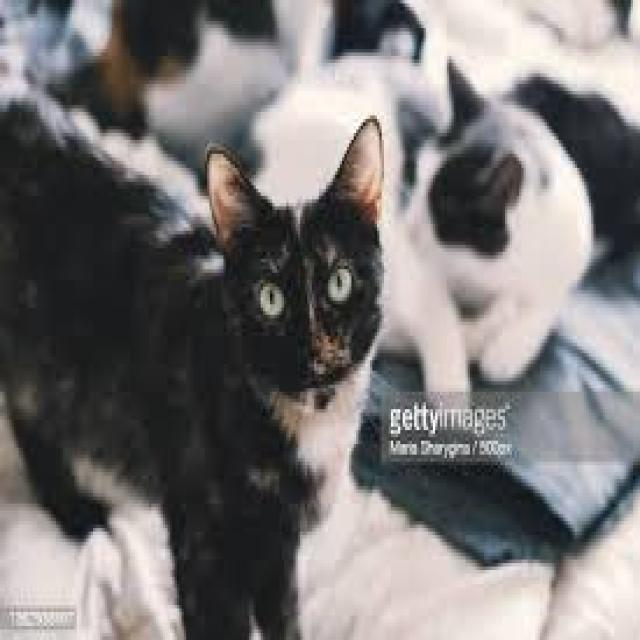Cat: (30, 109, 389, 597), (401, 51, 636, 279)
